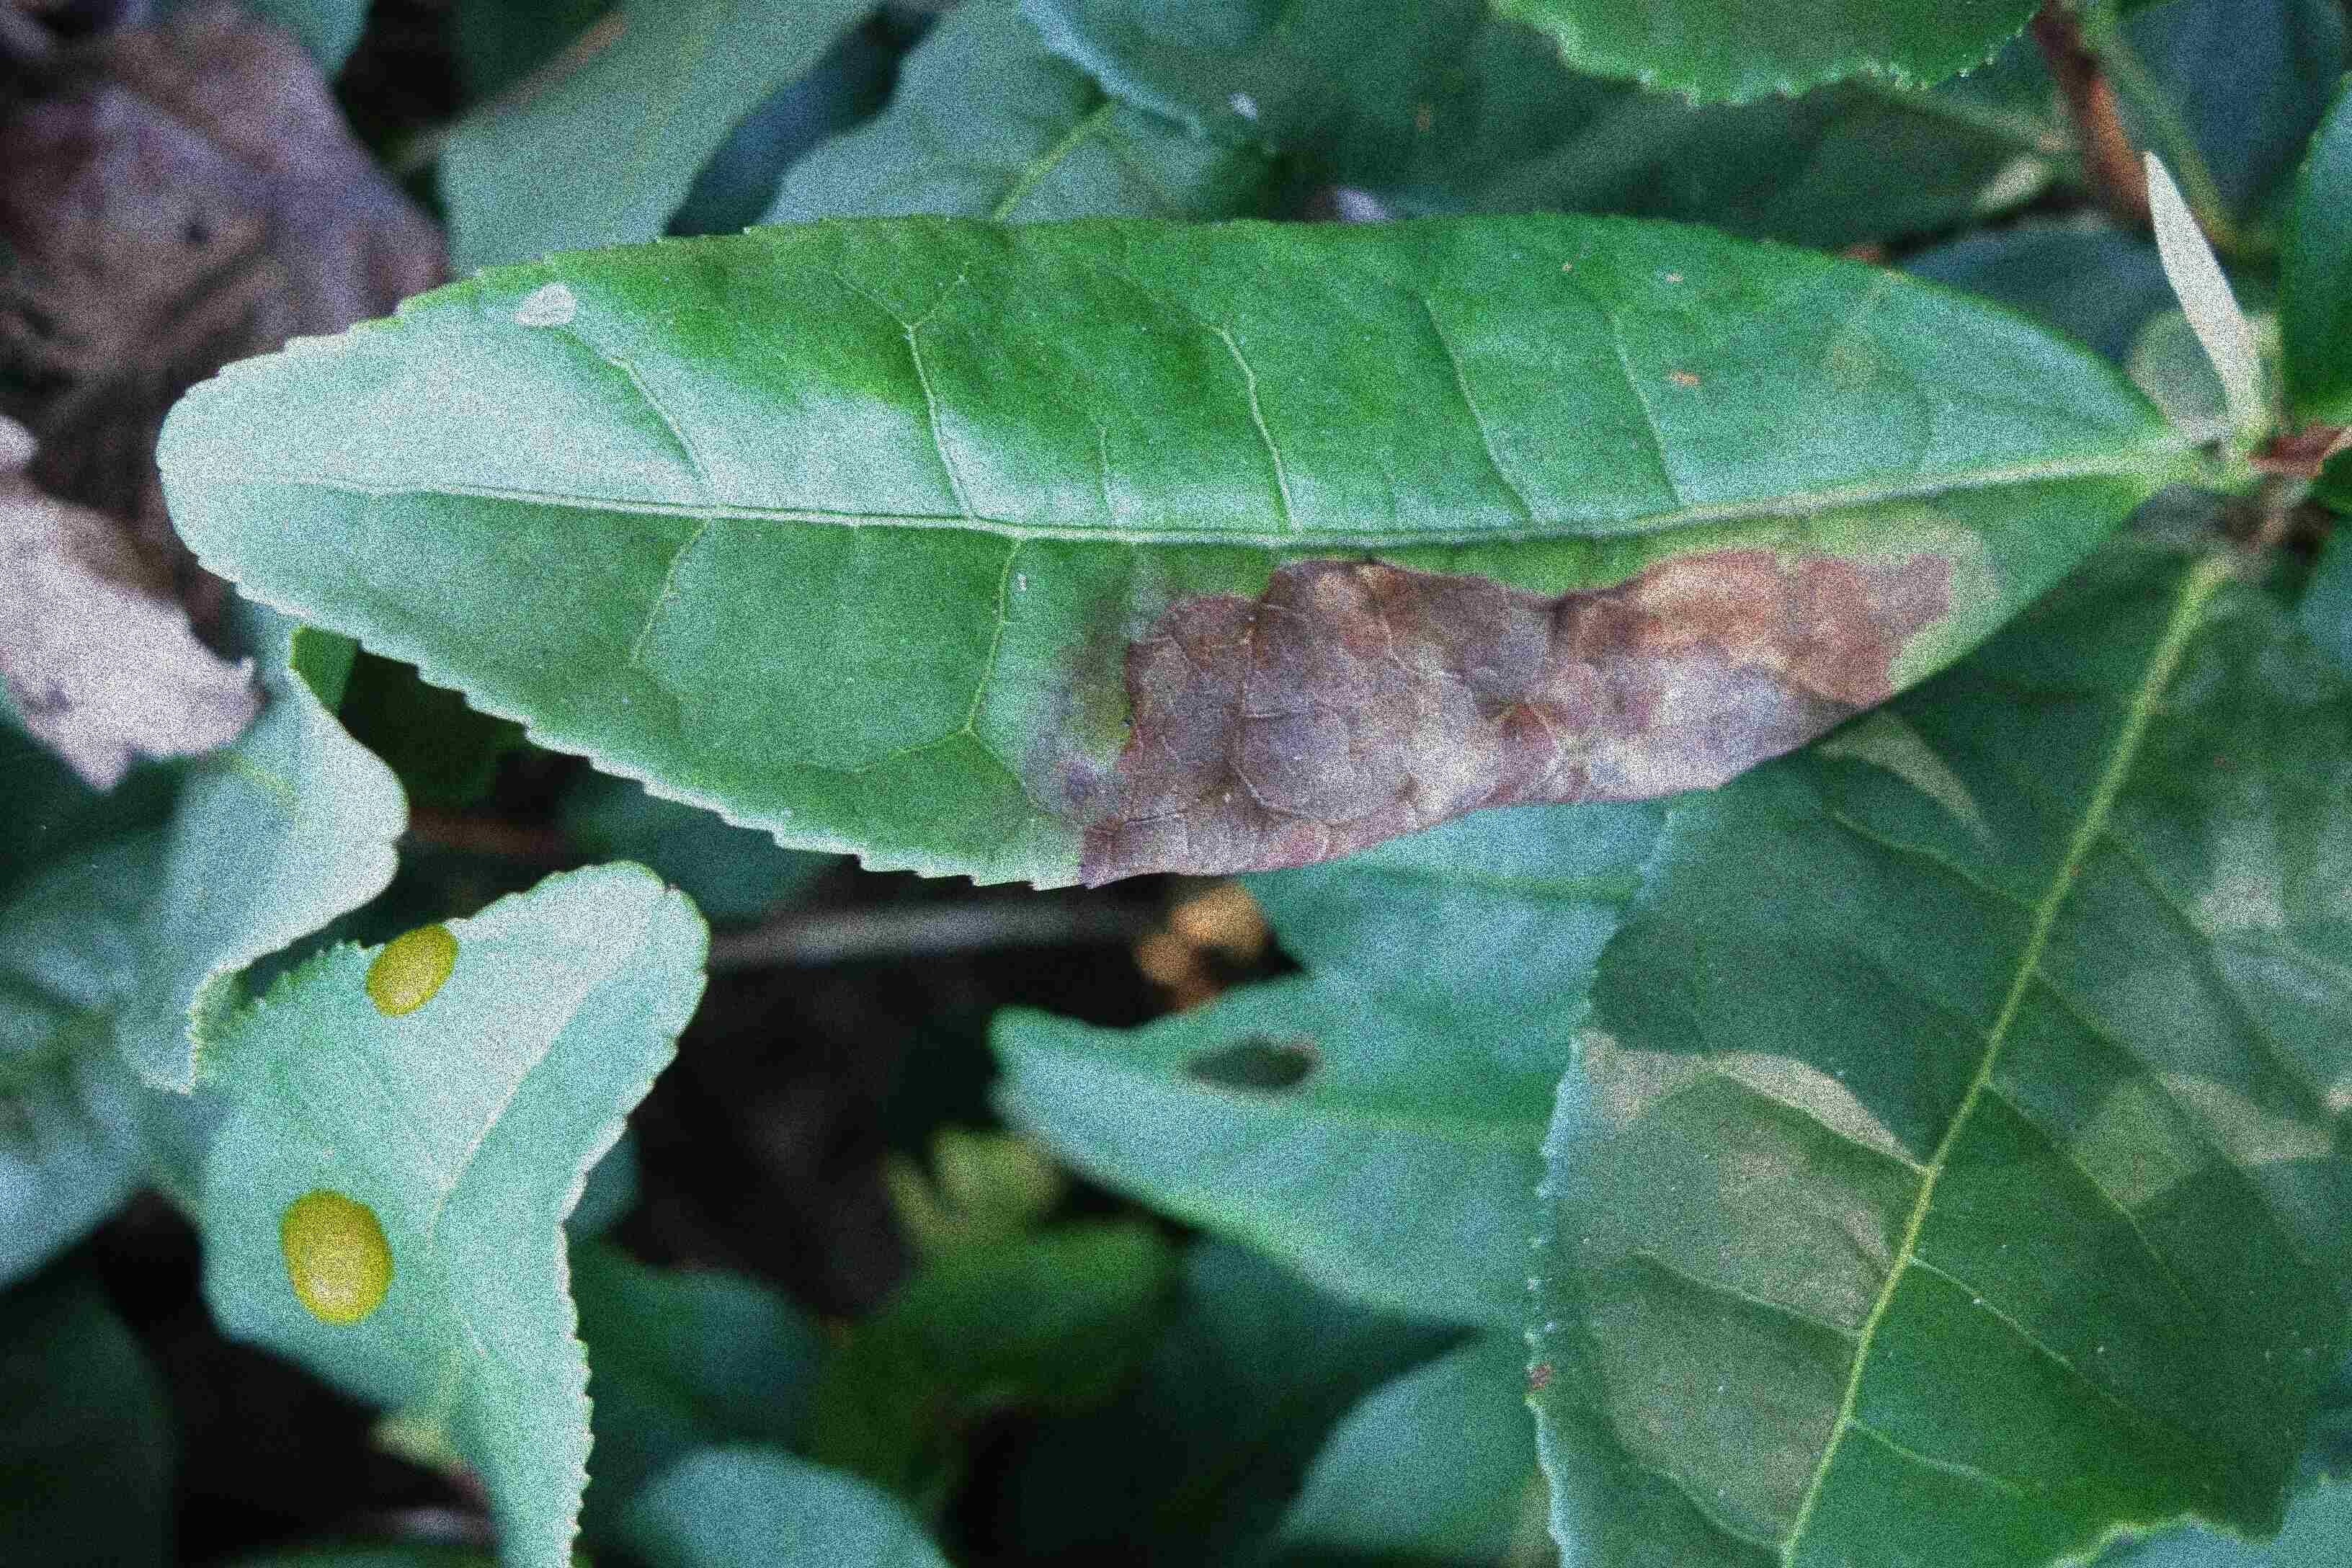chabing_high: (189, 861, 710, 1564)
chihuo_low: (987, 976, 1587, 1323)
tanju_high: (152, 212, 2180, 891)
